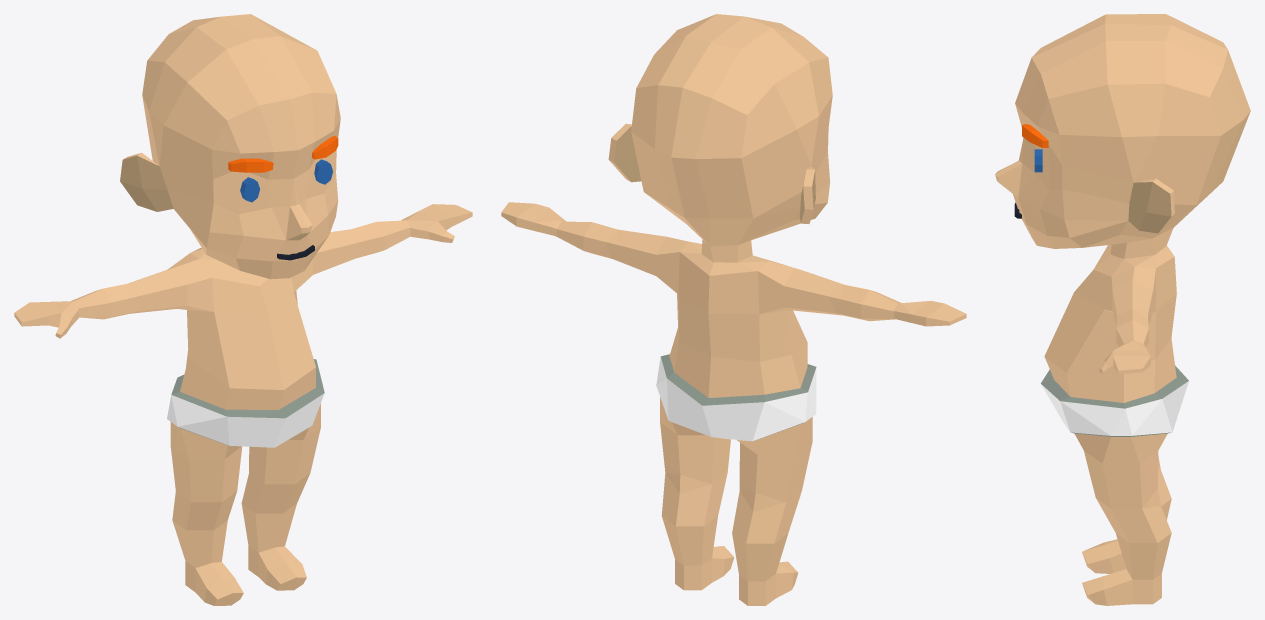
Rendered from low_poly_little_baby.glb.
3 views of the same model, side by side, from view 1: azimuth 30°, elevation 25°; view 2: azimuth 150°, elevation 25°; view 3: azimuth 270°, elevation 25° (orthographic).
Visible parts, largest first — view 1: baby_0, baby_eyes1_1; view 2: baby_0; view 3: baby_0, baby_eyes1_1.
Part boxes in pixels (box(x1,y1,x2,y2)): baby_0: box(14, 14, 472, 605); baby_eyes1_1: box(228, 136, 338, 202); baby_0: box(501, 14, 966, 605); baby_0: box(995, 14, 1250, 605); baby_eyes1_1: box(1022, 124, 1048, 172).
Bounding box in the file's own units: 0.6699 × 0.7843 × 0.3254.
Materials: 1 (1 with a texture image).
